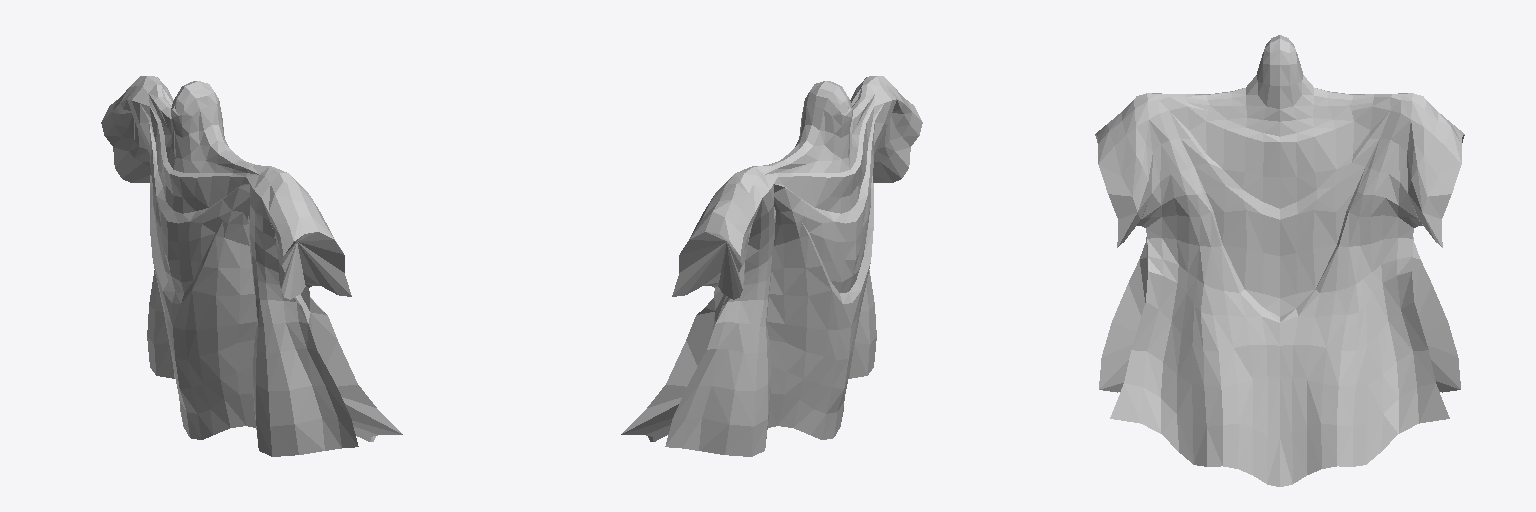
The model's file is ghost.obj.
The picture shows the model from 3 angles: view 1: azimuth 30°, elevation 25°; view 2: azimuth 150°, elevation 25°; view 3: azimuth 270°, elevation 25°; orthographic projection.
Visible parts, largest first — view 1: Object_cgh00001.jpg; view 2: Object_cgh00001.jpg; view 3: Object_cgh00001.jpg.
Boxes of the visible parts, box(x1,y1,x2,y2) form: Object_cgh00001.jpg: box(101, 76, 402, 456); Object_cgh00001.jpg: box(621, 76, 922, 456); Object_cgh00001.jpg: box(1095, 35, 1464, 486).
Bounding box in the file's own units: 1.23 × 2.5 × 2.22.